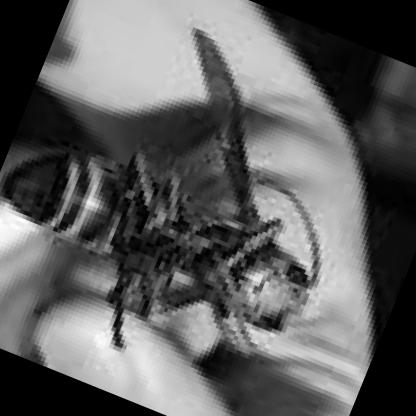asian: (0, 17, 396, 415)
